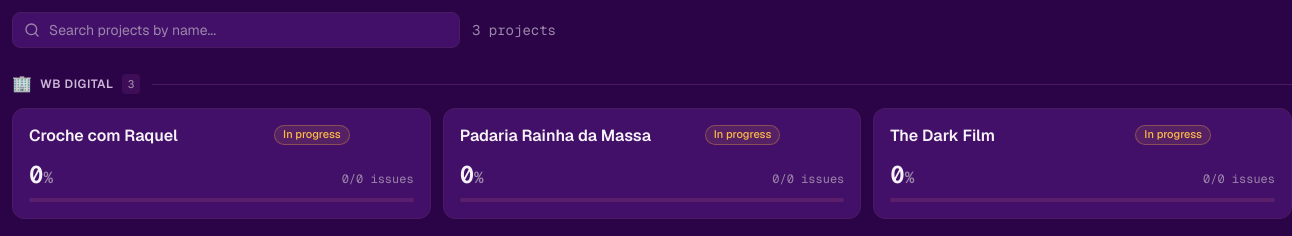
Test case: ProjectsListClient — busca › mostra o contador de resultados sobre o total
expect the text "3 projects" is shown: met, box [472,20,556,40]
Type "da" into the search field labelled "Search projects by name". click: (236, 30)
box: [12,12,460,48]
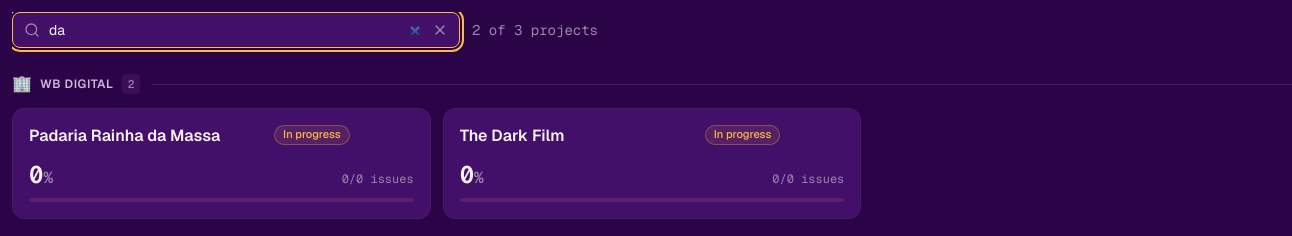
expect the text "2 of 3 projects" is shown: met, box [472,20,598,40]
